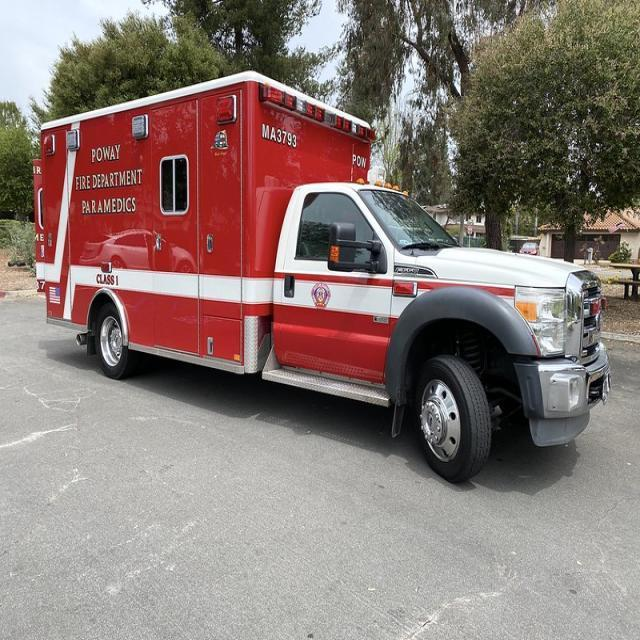emergency: (251, 74, 609, 486)
